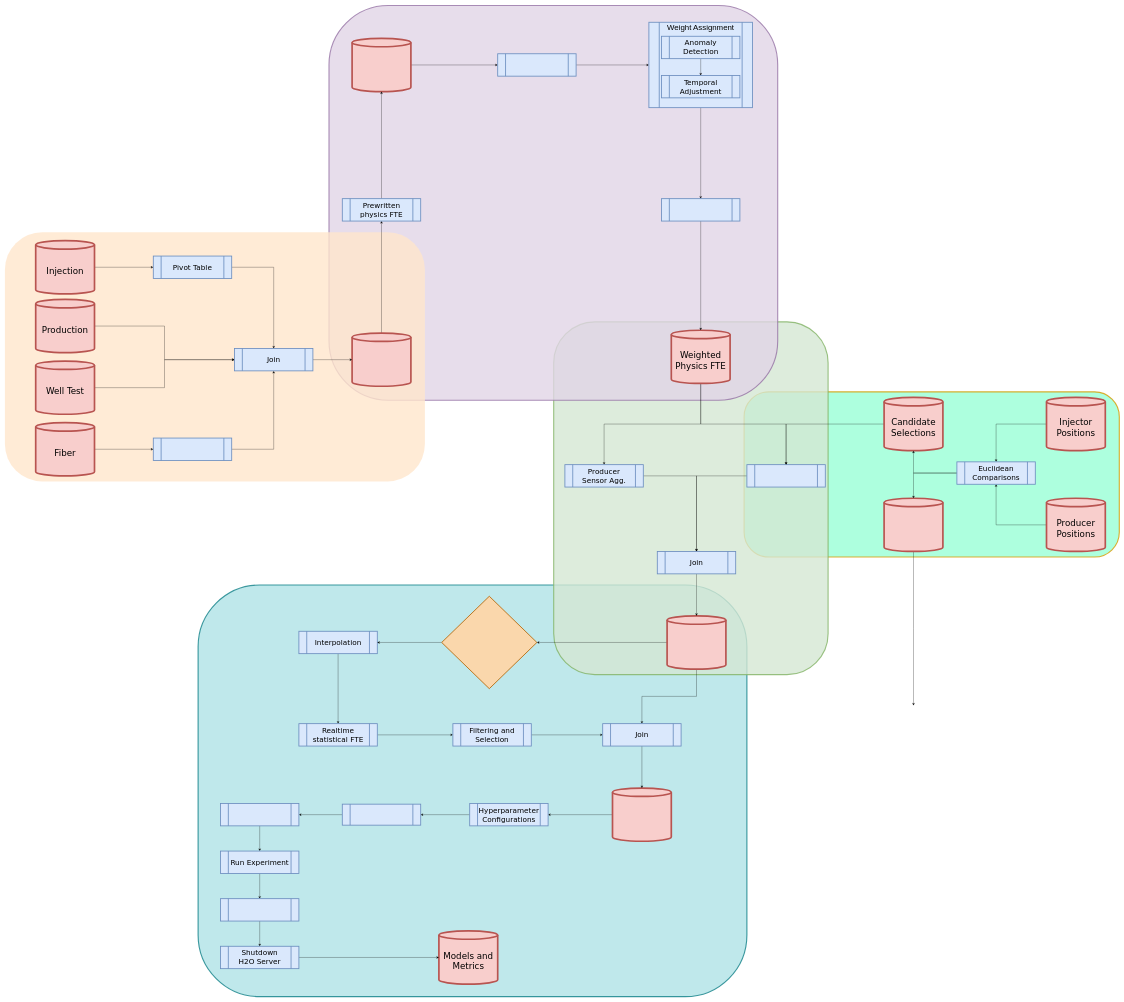
This 1124x1002 diagram has some shape labels left out. The centre of each missing label's shape, as x and y in pixels:
"Aggregated Weighted Physics FTE" goes at pixel 696 642.
"Average Daily" goes at pixel 700 209.
"Concatenate" goes at pixel 192 449.
"Distance Matrix" goes at pixel 913 524.
"Evaluate Model Performance" goes at pixel 259 909.
"Filter out negative values" goes at pixel 536 64.
"H2O Server Initialization" goes at pixel 381 814.
"Injection Steam Aggregation" goes at pixel 786 475.
"Joined Base" goes at pixel 381 359.
"Physics FTE" goes at pixel 381 64.
"Pre-Model Dataset" goes at pixel 642 814.
"Predictor-Feature Selection" goes at pixel 489 642.
"Training-Holdout Splitting" goes at pixel 259 814.
